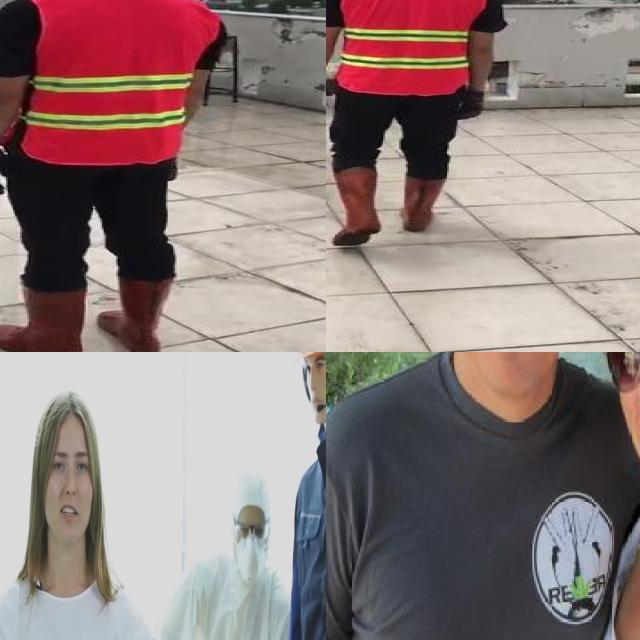Ear-protection: (296, 352, 326, 426)
No_Glasses: (46, 444, 90, 487)
boots: (95, 278, 173, 352), (0, 286, 87, 352), (328, 167, 381, 249), (401, 175, 443, 232)
hand_glove: (458, 90, 484, 119), (0, 148, 11, 195)
person: (326, 352, 640, 640), (0, 0, 228, 352), (326, 0, 509, 250), (0, 383, 161, 640), (574, 352, 640, 640)
vest: (20, 0, 217, 164), (338, 0, 482, 94)
